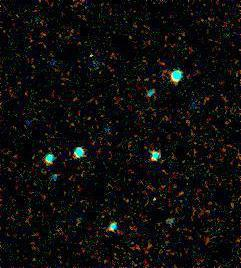star: (142, 182, 172, 212)
